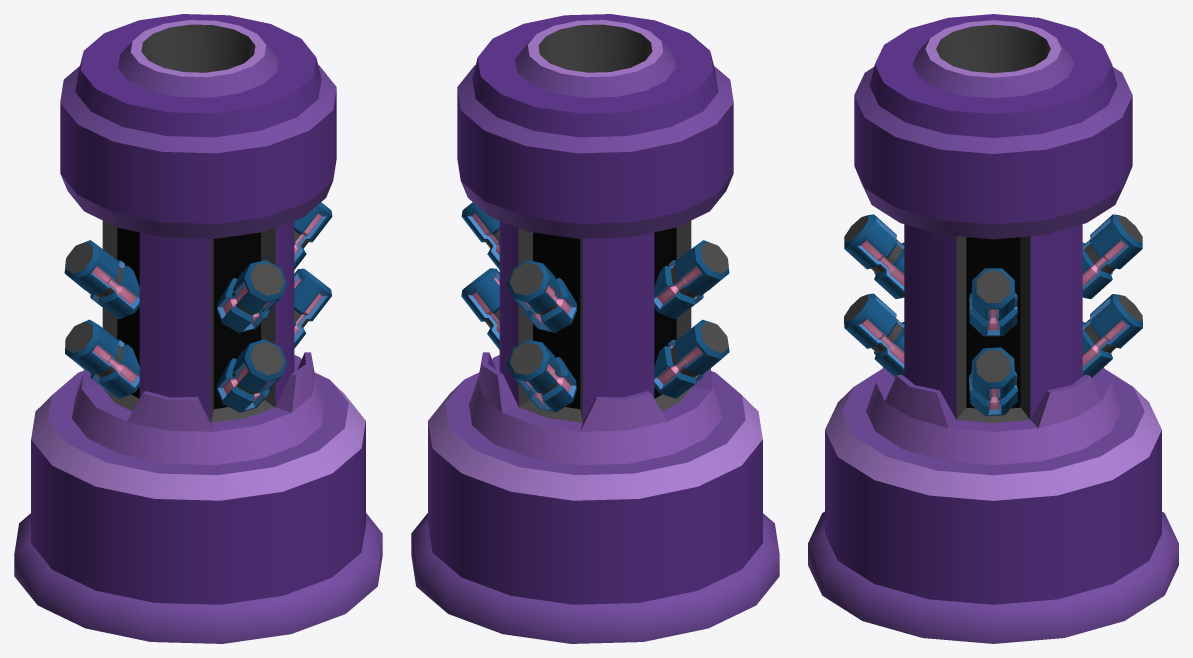
The model's file is Laser_Conveyor.fbx.
3 views of the same model, side by side, from view 1: azimuth 30°, elevation 25°; view 2: azimuth 150°, elevation 25°; view 3: azimuth 270°, elevation 25° (orthographic).
Parts seen in each view (by area): view 1: Laser_Conveyor, Laser_Ammo.008, Laser_Ammo.007, Laser_Ammo.002, Laser_Ammo.001, Laser_Ammo.004, Laser_Ammo.003; view 2: Laser_Conveyor, Laser_Ammo.008, Laser_Ammo.007, Laser_Ammo.005, Laser_Ammo.006, Laser_Ammo.004, Laser_Ammo.003; view 3: Laser_Conveyor, Laser_Ammo.001, Laser_Ammo.005, Laser_Ammo.006, Laser_Ammo.002, Laser_Ammo.003, Laser_Ammo.004.
Boxes of the visible parts, bbox=[...] form: Laser_Conveyor: bbox=[14, 14, 382, 643]; Laser_Ammo.008: bbox=[65, 319, 139, 398]; Laser_Ammo.007: bbox=[64, 240, 139, 319]; Laser_Ammo.002: bbox=[216, 339, 286, 412]; Laser_Ammo.001: bbox=[217, 260, 286, 332]; Laser_Ammo.004: bbox=[294, 268, 331, 348]; Laser_Ammo.003: bbox=[294, 202, 332, 269]; Laser_Conveyor: bbox=[411, 14, 779, 643]; Laser_Ammo.008: bbox=[654, 319, 729, 398]; Laser_Ammo.007: bbox=[654, 240, 729, 319]; Laser_Ammo.005: bbox=[507, 260, 576, 332]; Laser_Ammo.006: bbox=[507, 339, 576, 412]; Laser_Ammo.004: bbox=[461, 268, 499, 349]; Laser_Ammo.003: bbox=[461, 202, 499, 269]; Laser_Conveyor: bbox=[808, 14, 1178, 643]; Laser_Ammo.001: bbox=[844, 214, 904, 298]; Laser_Ammo.005: bbox=[1082, 214, 1142, 298]; Laser_Ammo.006: bbox=[1082, 294, 1142, 377]; Laser_Ammo.002: bbox=[844, 293, 904, 377]; Laser_Ammo.003: bbox=[969, 268, 1017, 336]; Laser_Ammo.004: bbox=[969, 347, 1017, 416].
Size of the model in its own units: 1.48 by 2.28 by 1.48.
